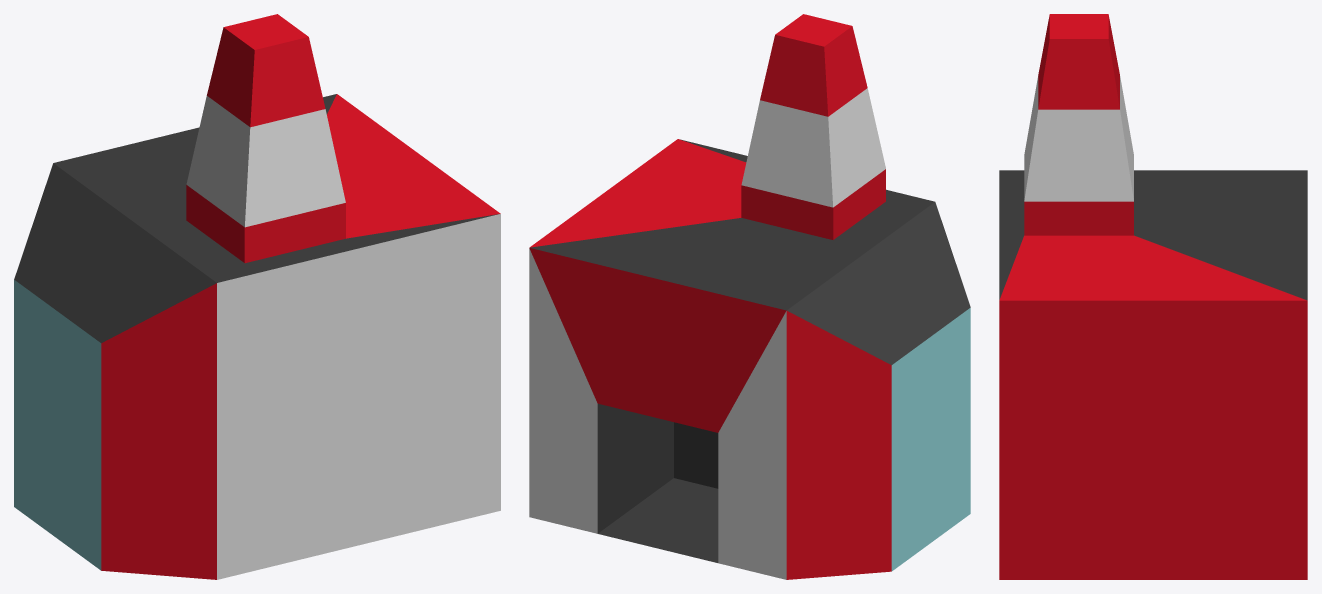
The model's file is torgoviyryad.fbx.
3 renders of one model, left to right at view 1: azimuth 30°, elevation 25°; view 2: azimuth 150°, elevation 25°; view 3: azimuth 270°, elevation 25°, orthographic. The views are drawn at different scales.
Parts seen in each view (by area): view 1: Cube; view 2: Cube; view 3: Cube.
Boxes of the visible parts, <box> form: Cube: <box>14,14,500,579</box>; Cube: <box>529,14,970,579</box>; Cube: <box>999,14,1307,579</box>.
Bounding box in the file's own units: 255 × 333 × 200.
